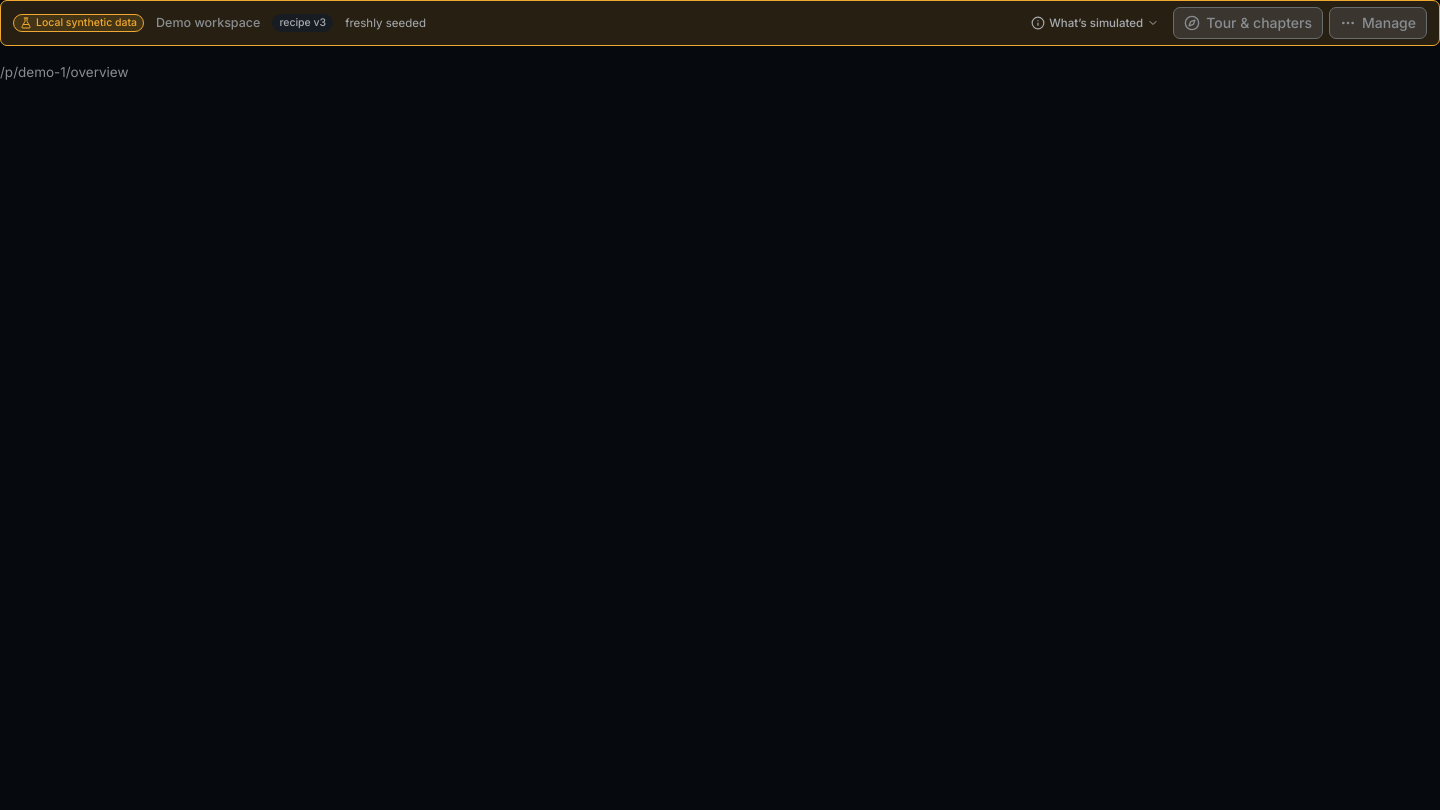
Test: DemoBanner — reset and delete failures (DEMO-4, DEMO-23) › does not caption a delete with the reset that failed before it
This screenshot has width=1440, height=810.
Press Enter in the button with aria-label "manage demo", box [1329,7,1427,39]
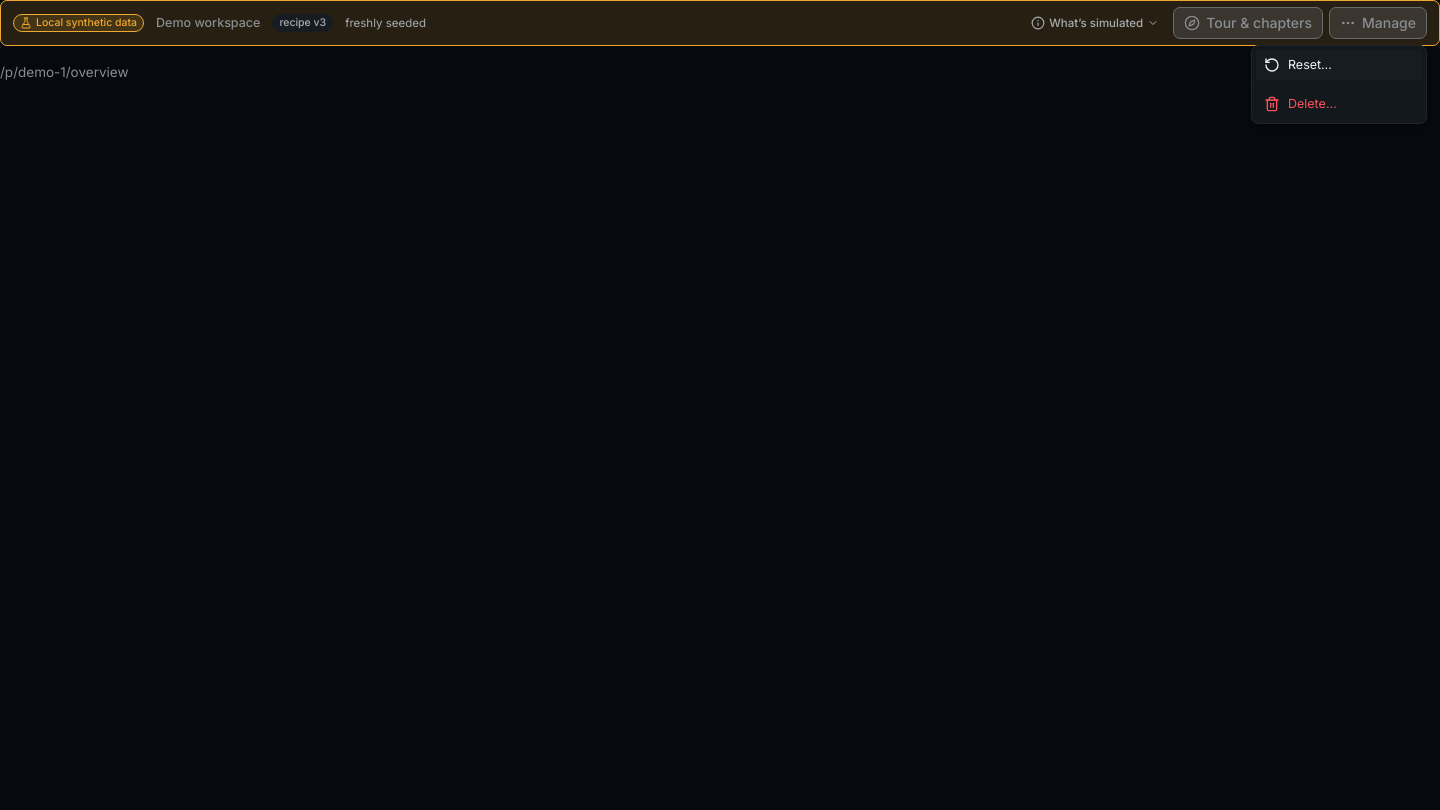
Click the menu item "Reset…" at (1339, 65), box [1256,50,1422,80]
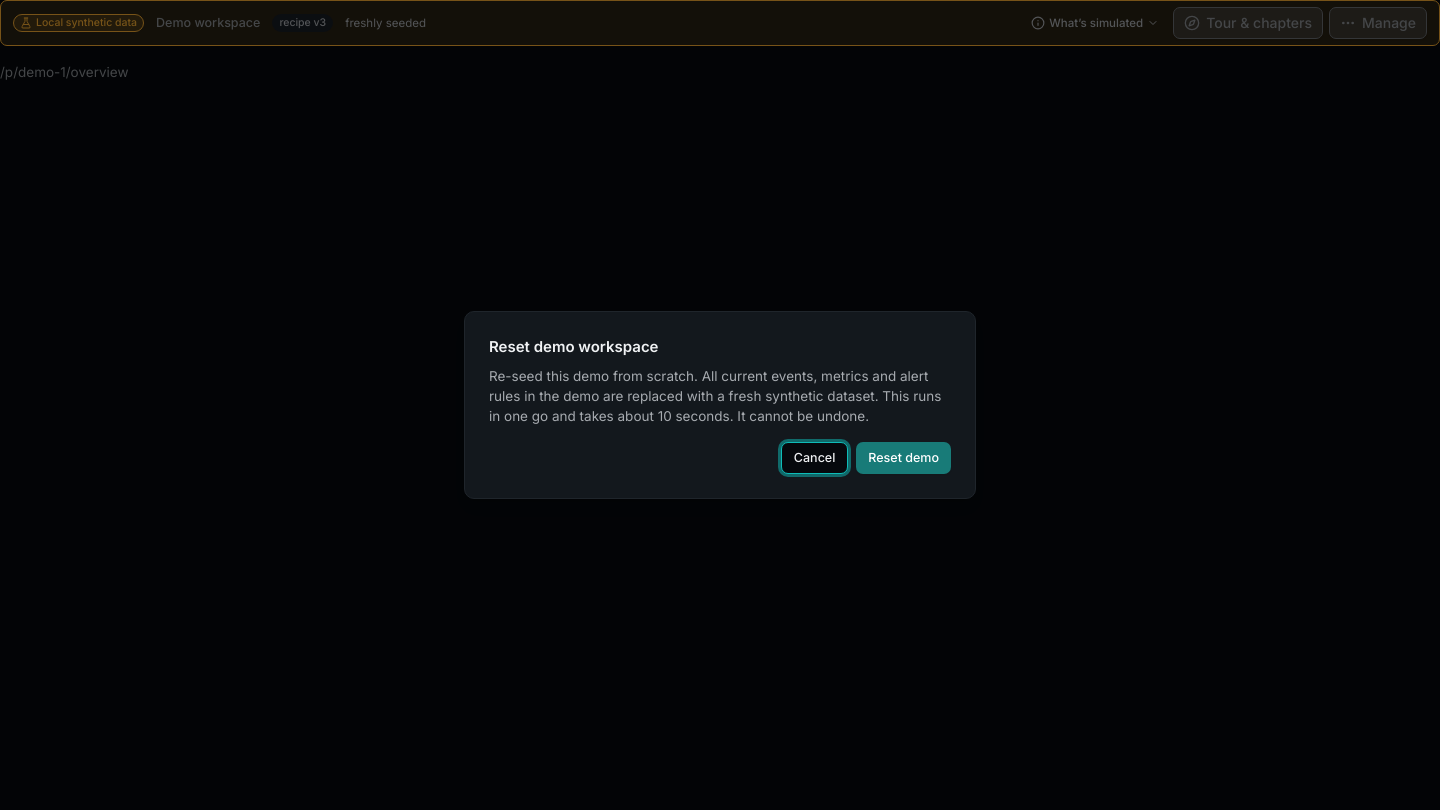
Click the button "Reset demo" at (904, 458), box [856,442,951,474]
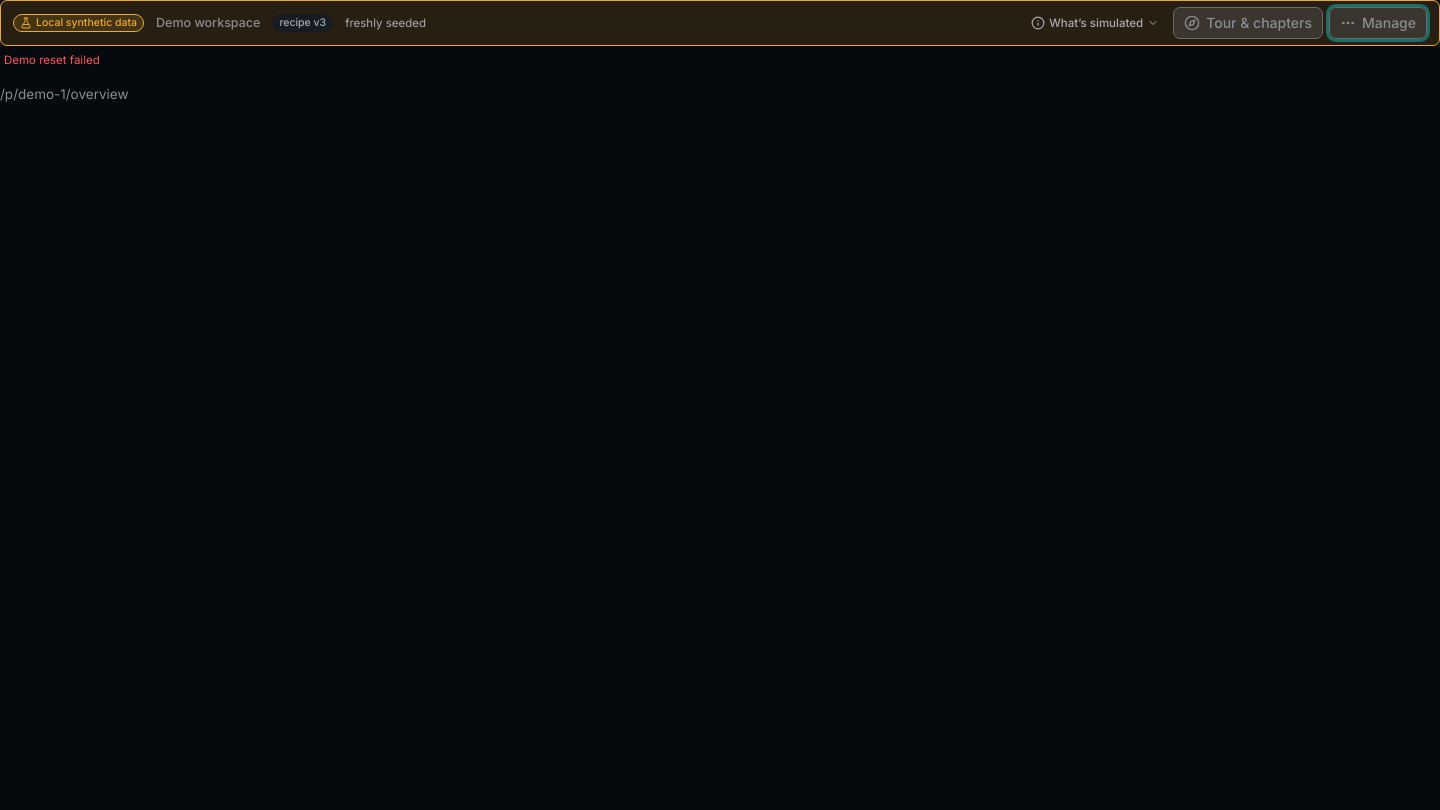
Result: the message reads "Demo reset failed" at [4,53,100,67]
Press Enter in the button with aria-label "manage demo", box [1329,7,1427,39]
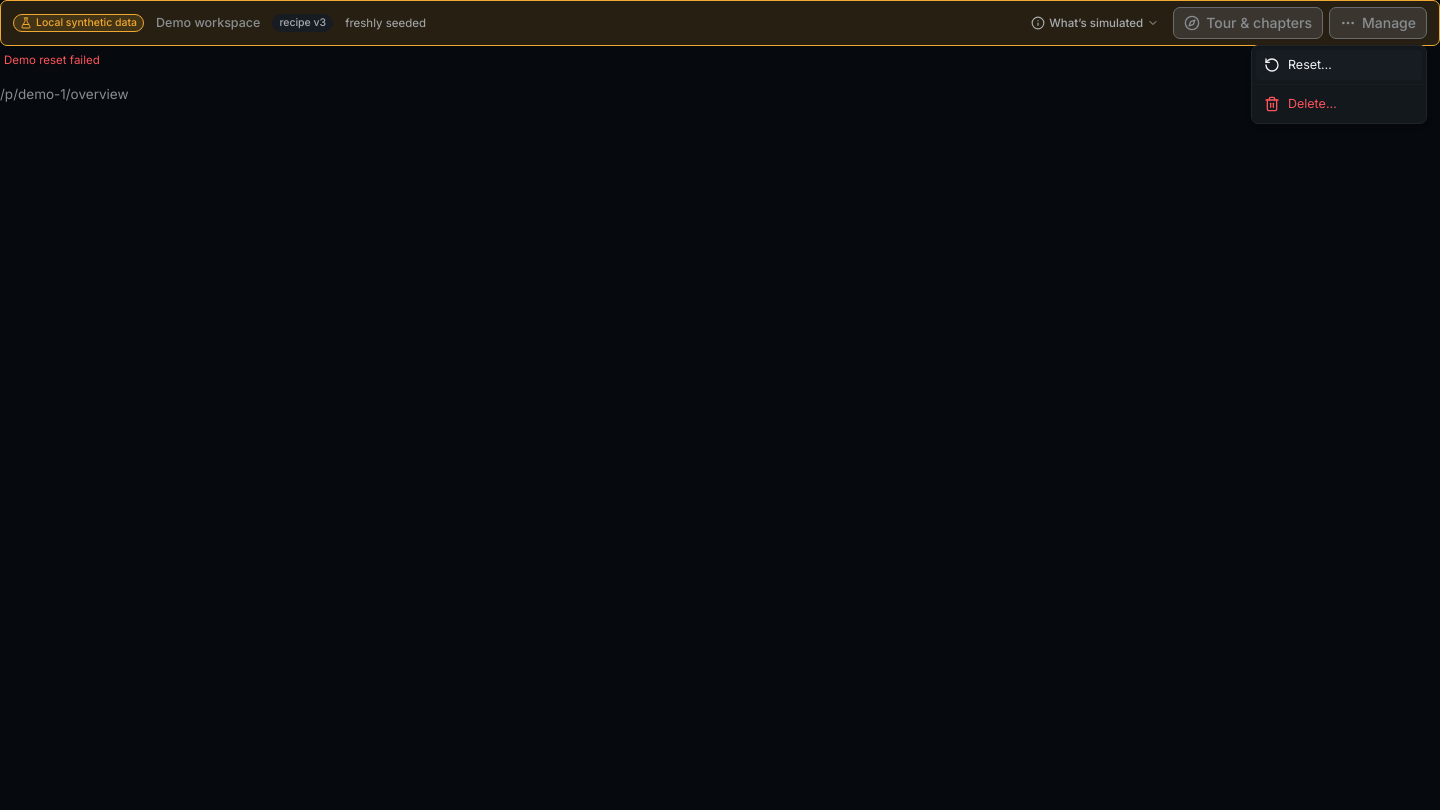
Click the menu item "Delete…" at (1300, 104), box [1264,96,1337,112]
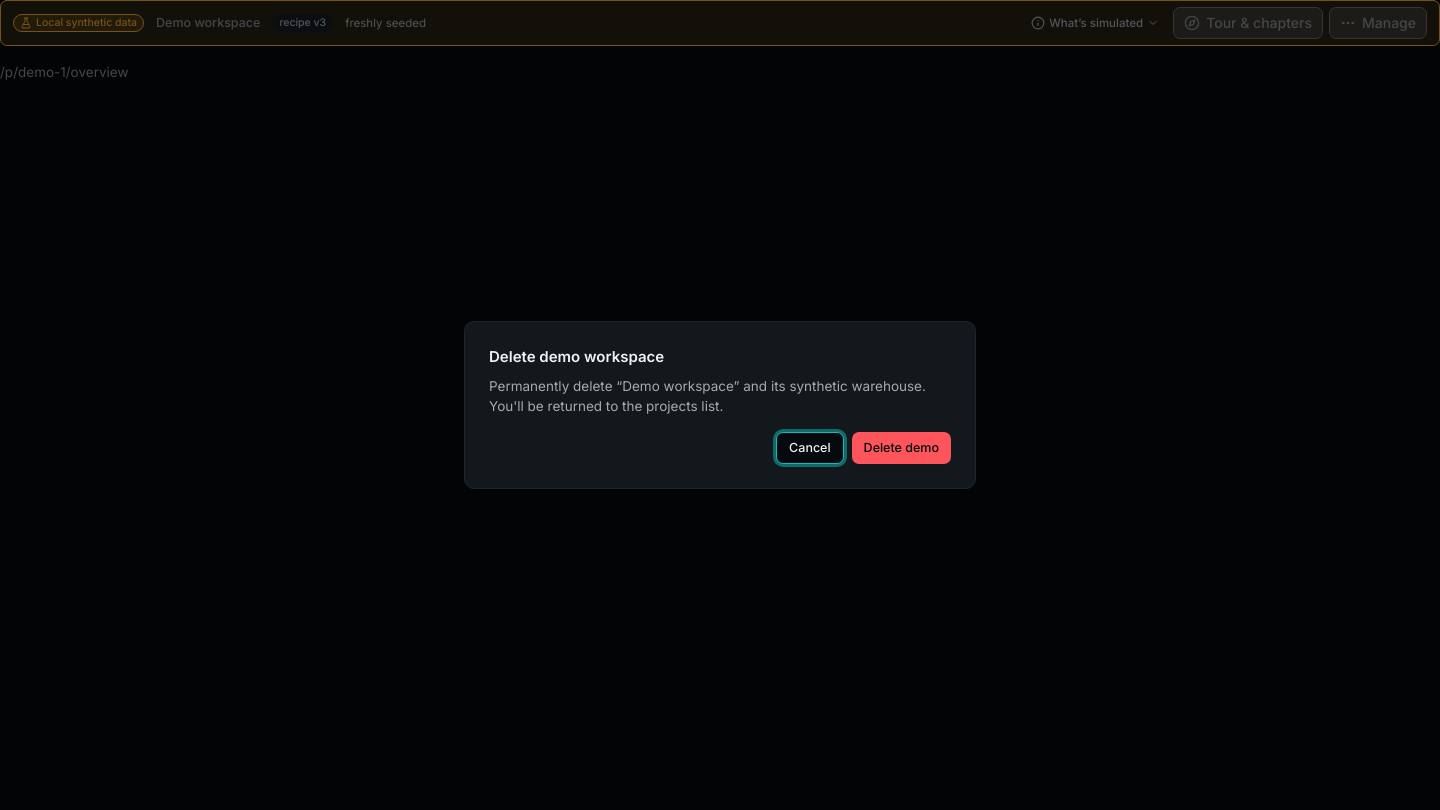
Click the button "Delete demo" at (901, 448), box [852,432,951,464]
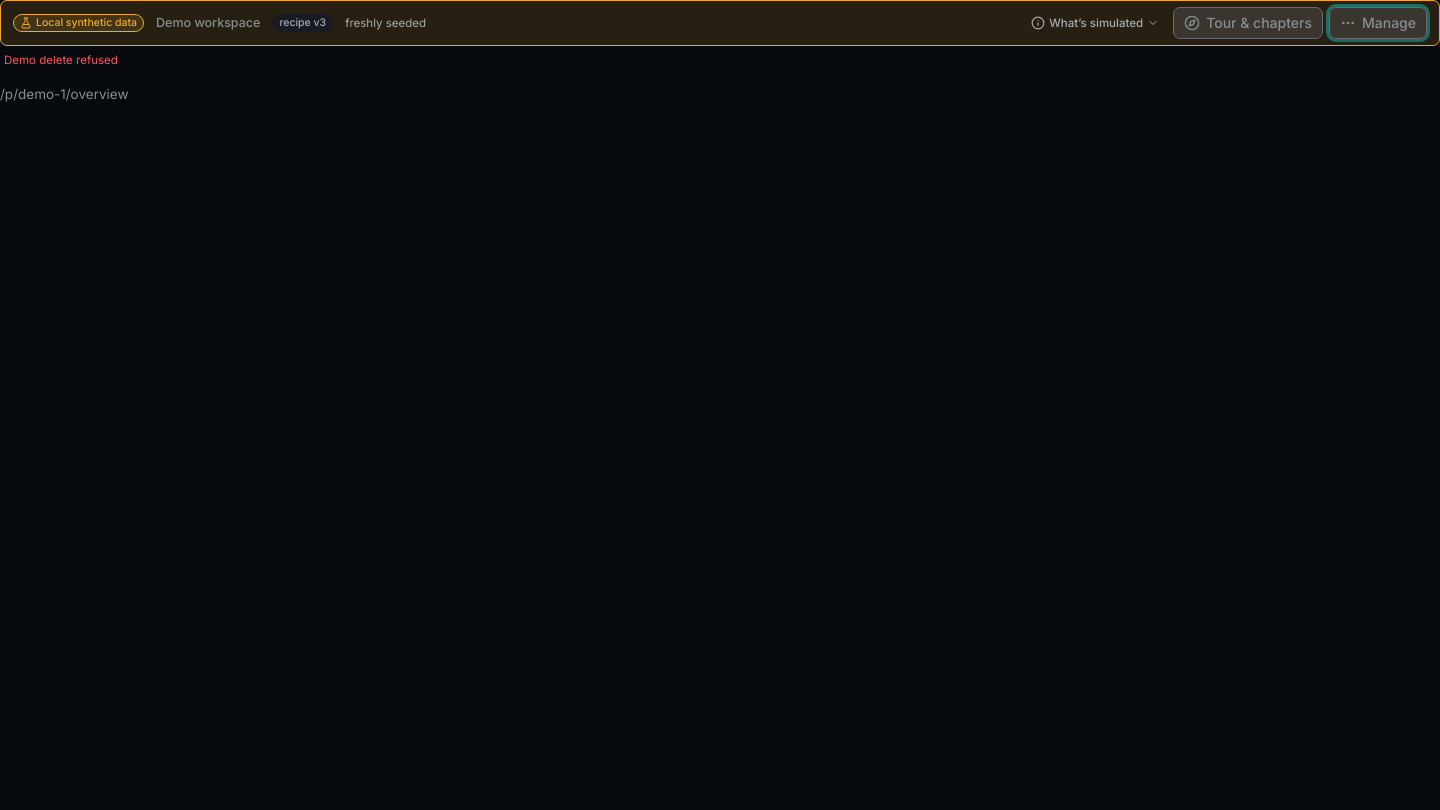
Expected: the text "Demo reset failed" is not shown
Result: the message reads "Demo delete refused" at [4,53,118,67]
